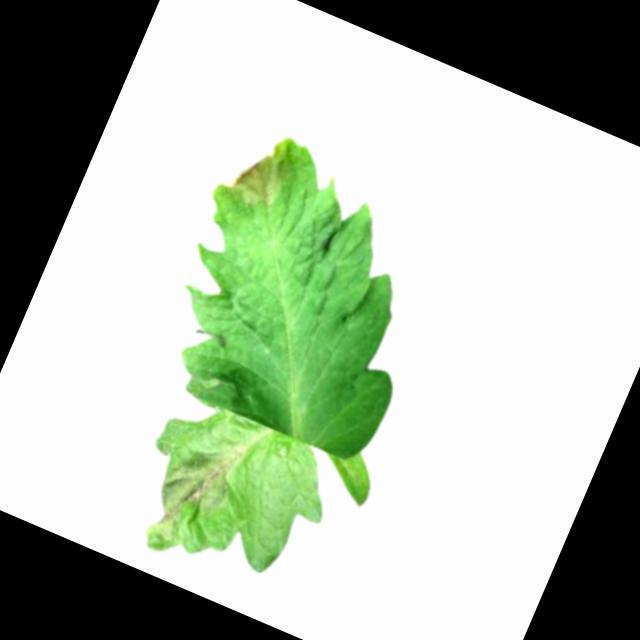Late_blight: (136, 429, 246, 560), (211, 129, 299, 216)
